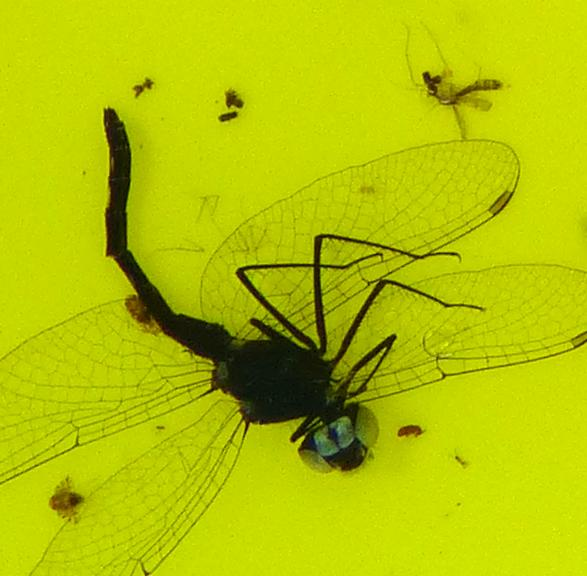Odonata: (100, 100, 487, 476)
